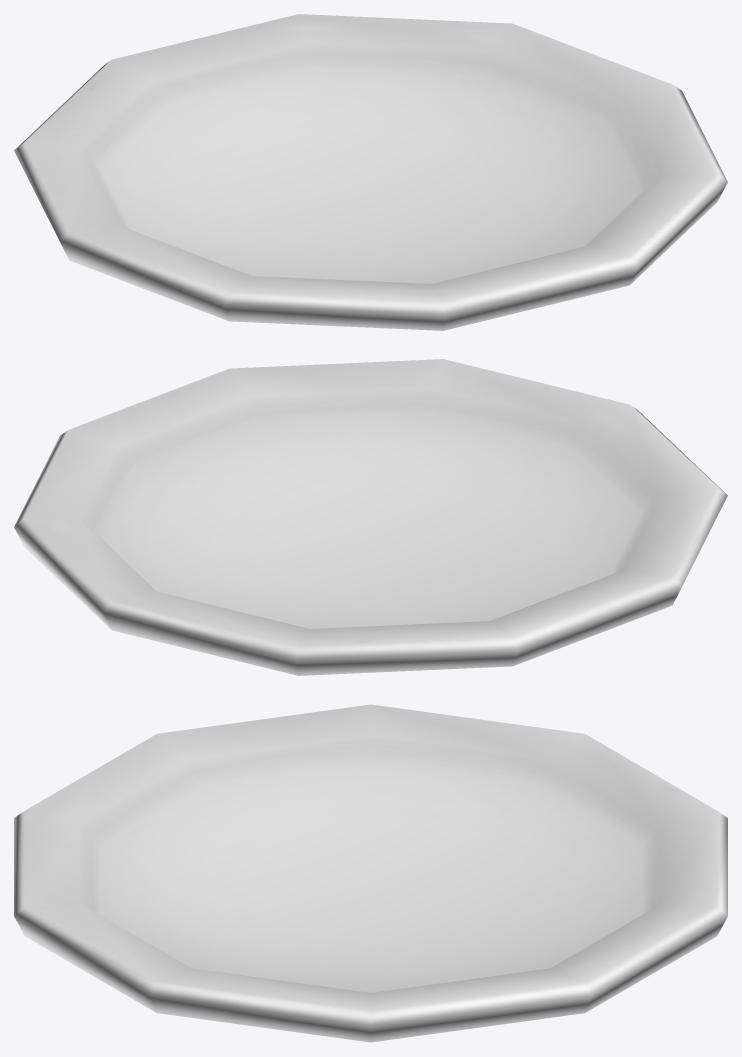
Rendered from Plate_02.fbx.
3 renders of one model, top to bottom at view 1: azimuth 30°, elevation 25°; view 2: azimuth 150°, elevation 25°; view 3: azimuth 270°, elevation 25°, orthographic. The views are drawn at different scales.
Visible parts, largest first — view 1: Plate_02; view 2: Plate_02; view 3: Plate_02.
Boxes of the visible parts, left/top/right/bottom form: Plate_02: left=14, top=14, right=727, bottom=330; Plate_02: left=14, top=359, right=727, bottom=675; Plate_02: left=14, top=704, right=727, bottom=1042.
Bounding box in the file's own units: 66.33 × 6.19 × 63.08.
